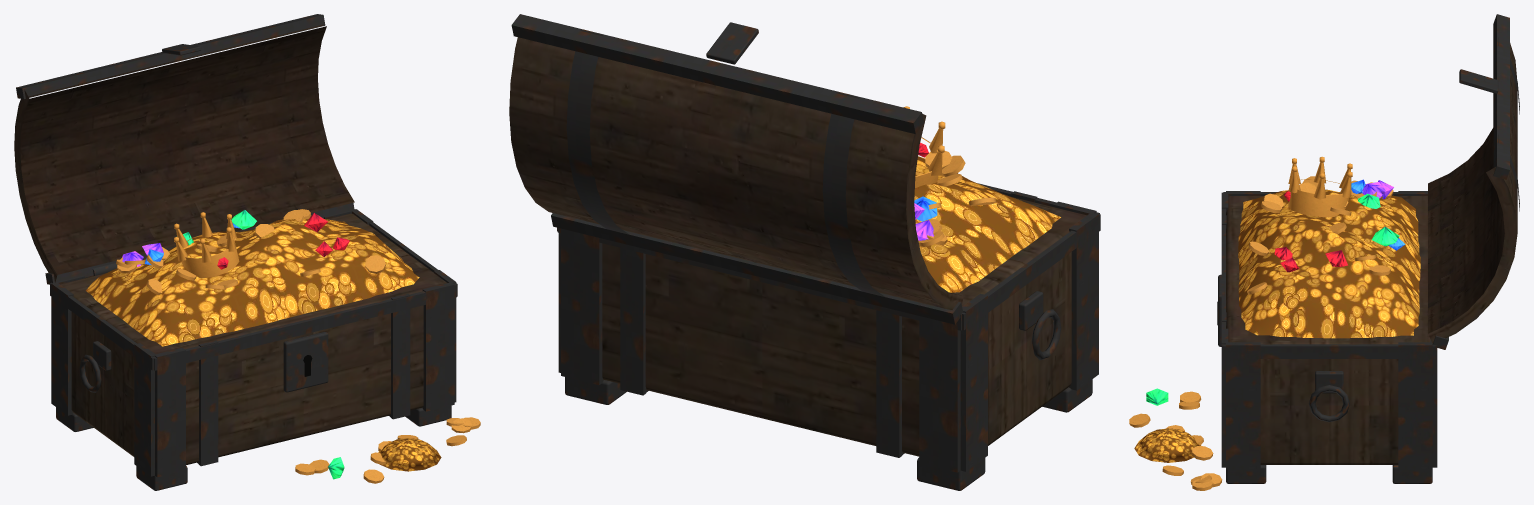
File: prop_treasureChest.glb
3 views of the same model, side by side, from view 1: azimuth 30°, elevation 25°; view 2: azimuth 150°, elevation 25°; view 3: azimuth 270°, elevation 25° (orthographic). The views are drawn at different scales.
Parts seen in each view (by area): view 1: prop; view 2: prop; view 3: prop.
Part boxes in pixels (left/top/right/bottom): prop: left=14, top=14, right=480, bottom=490; prop: left=509, top=14, right=1100, bottom=490; prop: left=1129, top=14, right=1519, bottom=490.
Bounding box in the file's own units: 0.692 × 0.6448 × 0.6808.
10 materials, 9 textured.
